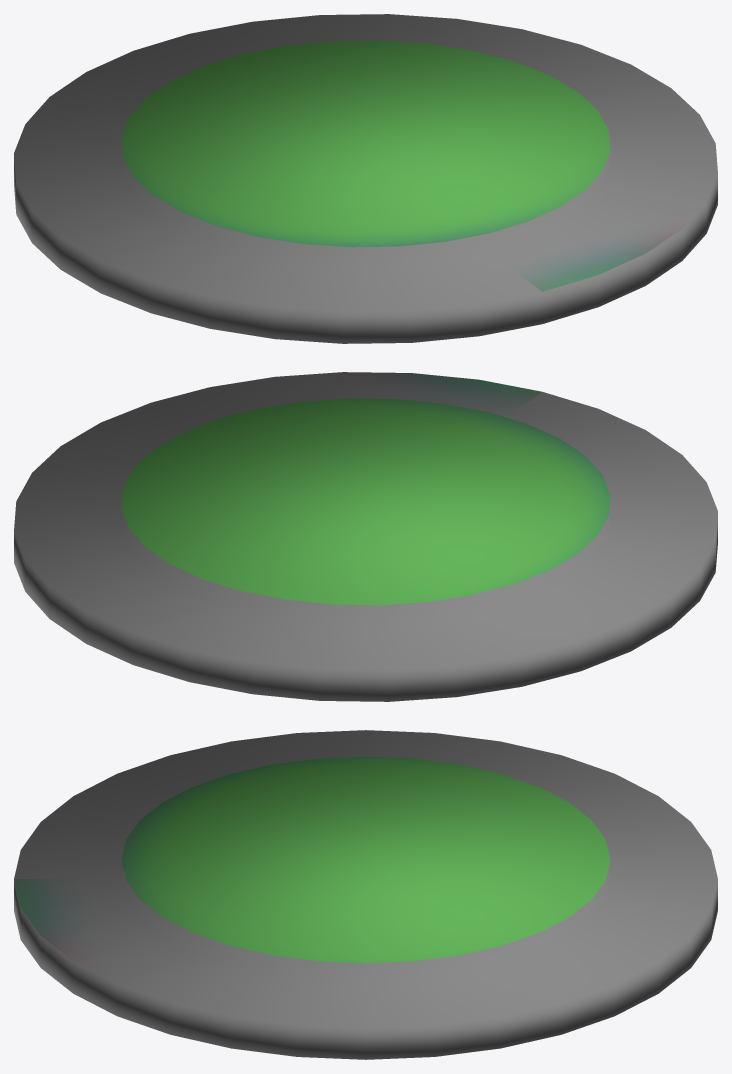
The model's file is MapPoint.fbx.
3 views of the same model, one above another, from view 1: azimuth 30°, elevation 25°; view 2: azimuth 150°, elevation 25°; view 3: azimuth 270°, elevation 25° (orthographic).
Visible parts, largest first — view 1: MapPoint; view 2: MapPoint; view 3: MapPoint.
Boxes of the visible parts, x1,y1,x2,y2 form: MapPoint: (14, 14, 717, 343); MapPoint: (14, 372, 717, 701); MapPoint: (14, 730, 717, 1059).
Size of the model in its own units: 200 by 16.03 by 200.
